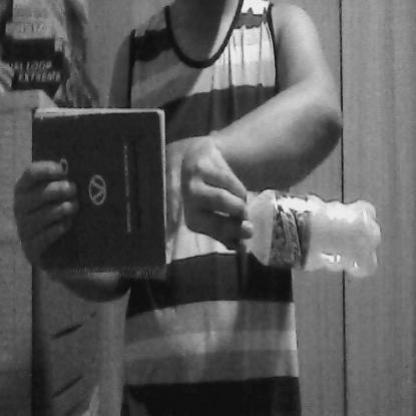Plastic Bottle: (222, 178, 386, 287)
